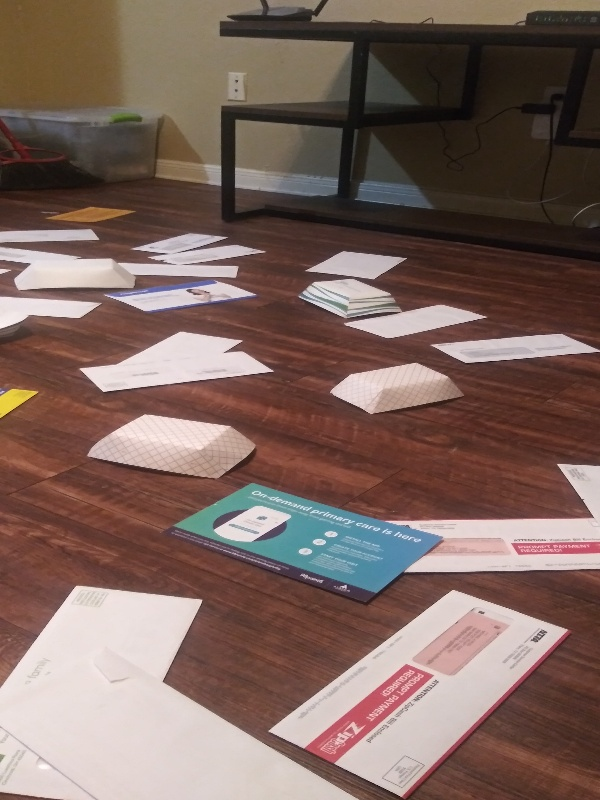plate: (85, 410, 263, 485), (323, 362, 467, 416), (12, 256, 138, 299), (295, 276, 401, 319), (1, 297, 35, 344)
